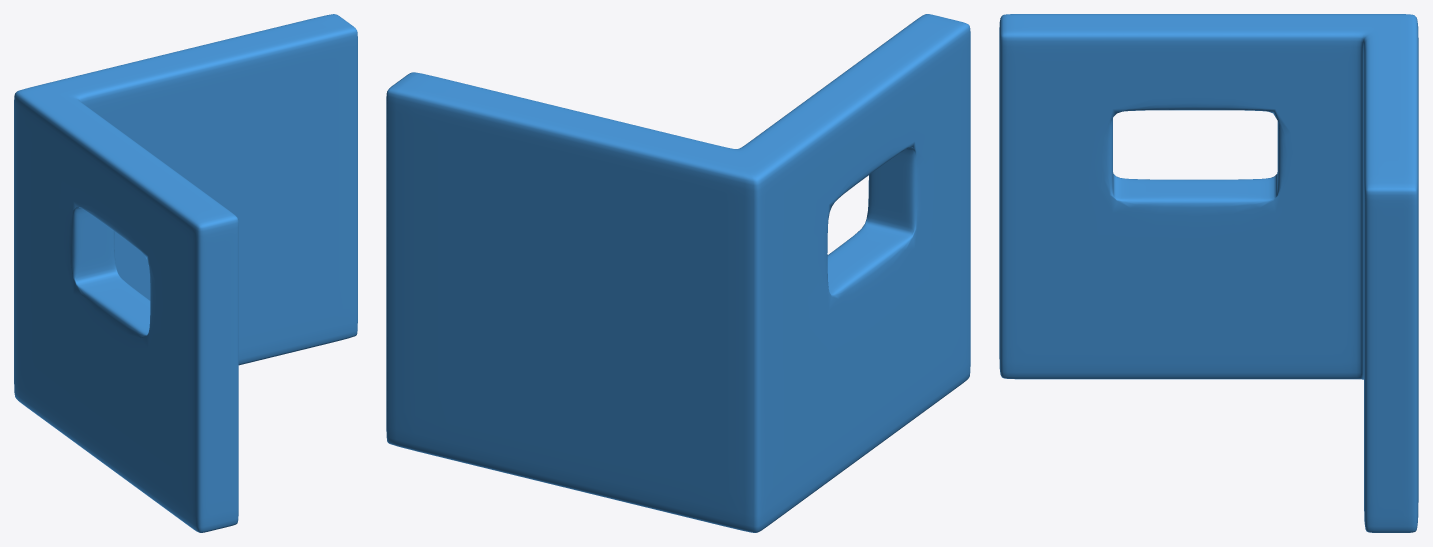
Rendered from Walls.glb.
3 renders of one model, left to right at view 1: azimuth 30°, elevation 25°; view 2: azimuth 150°, elevation 25°; view 3: azimuth 270°, elevation 25°, orthographic. The views are drawn at different scales.
Parts seen in each view (by area): view 1: Walls; view 2: Walls; view 3: Walls.
Boxes of the visible parts, x1,y1,x2,y2 form: Walls: (14, 14, 357, 532); Walls: (386, 14, 970, 532); Walls: (999, 14, 1418, 532).
Size of the model in its own units: 3.45 by 3.15 by 3.45.
